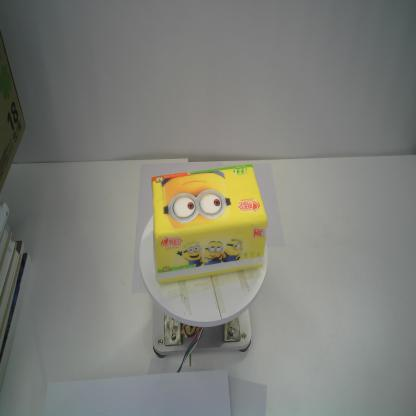Tissue: (151, 163, 268, 286)
